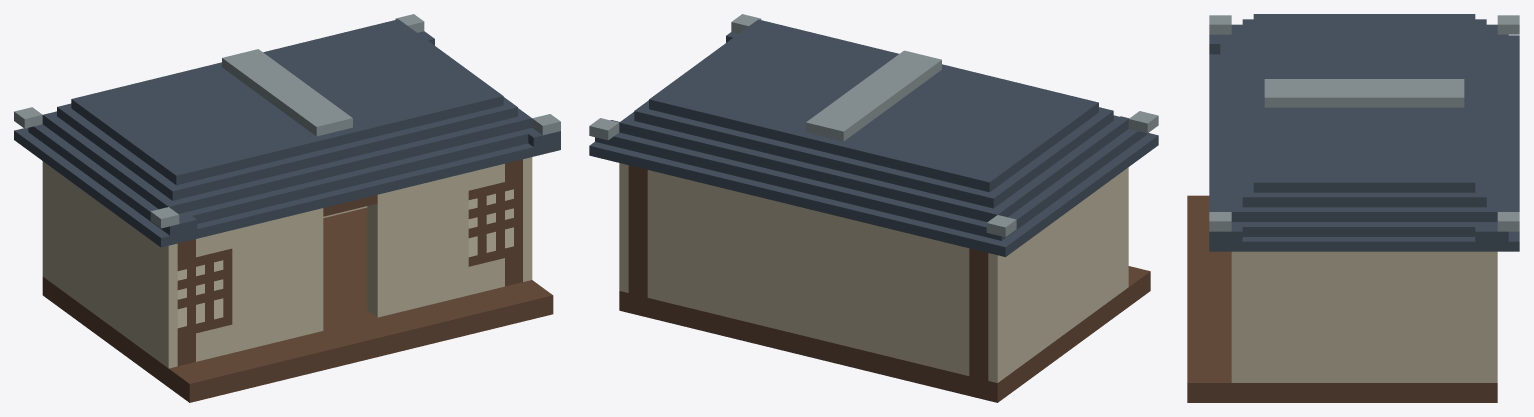
Rendered from workshop.glb.
3 views of the same model, side by side, from view 1: azimuth 30°, elevation 25°; view 2: azimuth 150°, elevation 25°; view 3: azimuth 270°, elevation 25° (orthographic). The views are drawn at different scales.
Visible parts, largest first — view 1: Shell; view 2: Shell; view 3: Shell.
Boxes of the visible parts, box(x1,y1,x2,y2) form: Shell: box(14, 14, 560, 402); Shell: box(589, 14, 1158, 402); Shell: box(1187, 14, 1519, 402).
Size of the model in its own units: 5.5 by 2.75 by 3.75.
